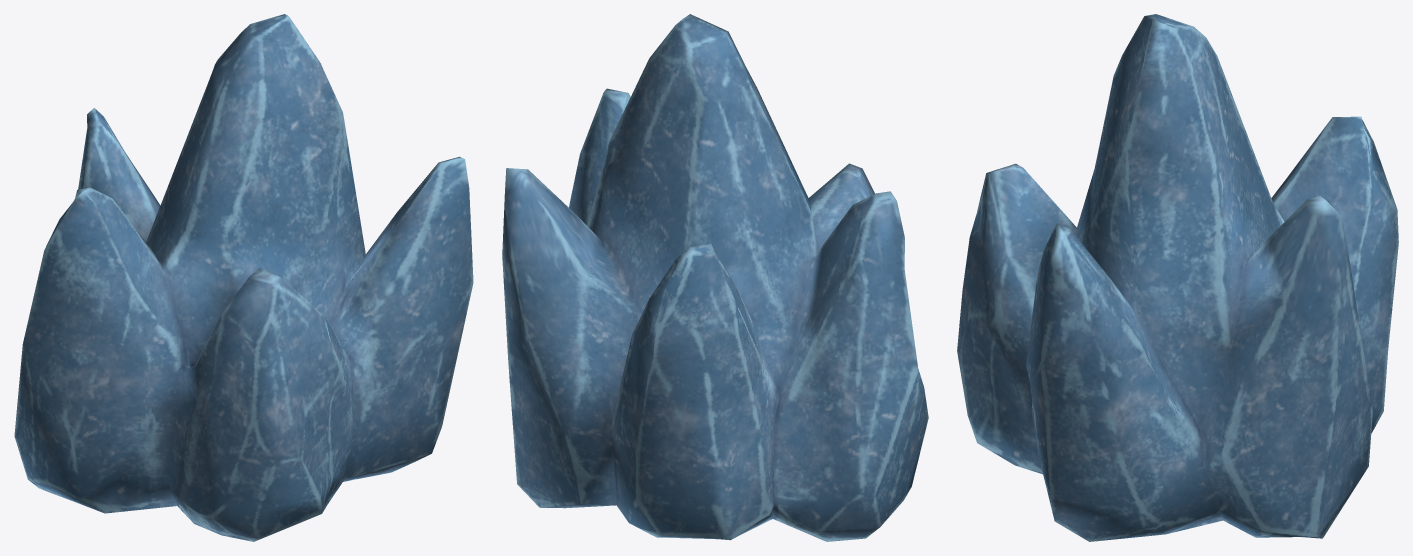
File: EP1_ice01.fbx
The picture shows the model from 3 angles, left to right: view 1: azimuth 30°, elevation 25°; view 2: azimuth 150°, elevation 25°; view 3: azimuth 270°, elevation 25°; orthographic projection. The views are drawn at different scales.
Visible parts, largest first — view 1: ice01_low; view 2: ice01_low; view 3: ice01_low.
Boxes of the visible parts, box(x1,y1,x2,y2) form: ice01_low: box(14, 14, 473, 541); ice01_low: box(502, 14, 928, 541); ice01_low: box(957, 14, 1398, 541).
Bounding box in the file's own units: 1.33 × 1.48 × 1.22.
